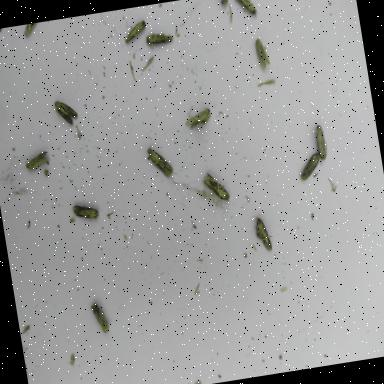pbw: (146, 142, 175, 184), (202, 168, 230, 206), (253, 214, 275, 254), (298, 152, 324, 180), (54, 98, 79, 127), (90, 300, 110, 334), (184, 106, 212, 130), (314, 124, 329, 166), (122, 20, 148, 42), (72, 202, 100, 222), (254, 37, 270, 71), (233, 0, 259, 20), (24, 150, 50, 170), (145, 30, 174, 46), (69, 352, 76, 365), (22, 324, 30, 334)
